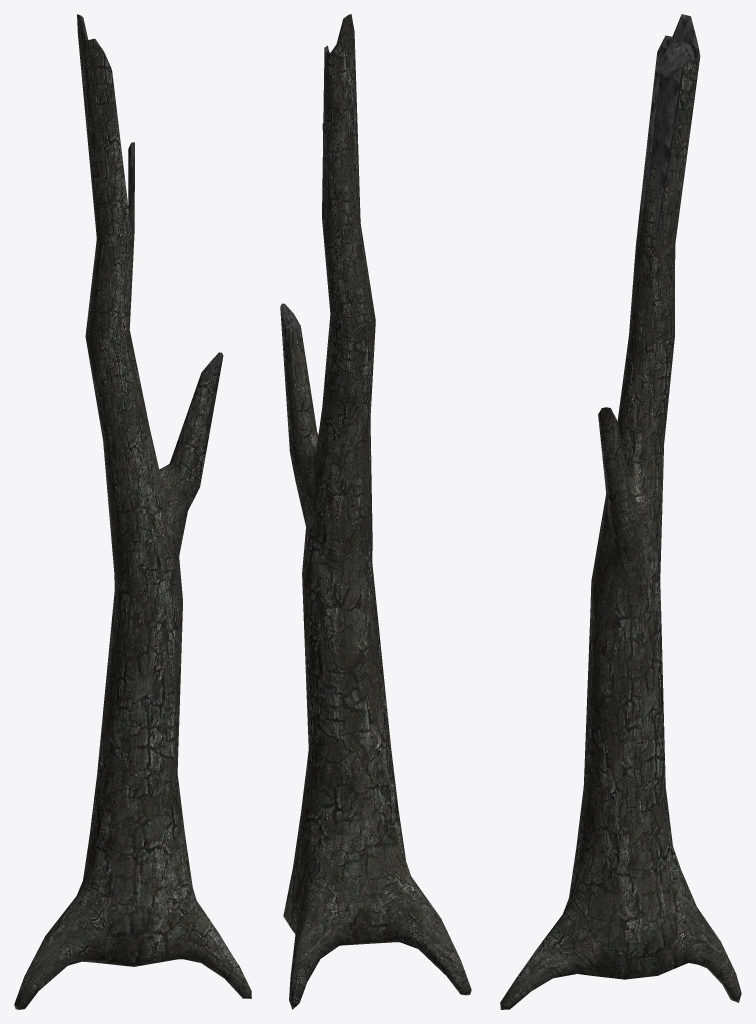
Rendered from DeadTree05.FBX.
3 renders of one model, left to right at view 1: azimuth 30°, elevation 25°; view 2: azimuth 150°, elevation 25°; view 3: azimuth 270°, elevation 25°, orthographic. The views are drawn at different scales.
Visible parts, largest first — view 1: TreeDead05:0, TreeDead05:1; view 2: TreeDead05:0, TreeDead05:1; view 3: TreeDead05:0, TreeDead05:1.
Part boxes in pixels (bbox=[...]): TreeDead05:0: bbox=[14, 14, 251, 1009]; TreeDead05:1: bbox=[78, 14, 223, 374]; TreeDead05:0: bbox=[280, 14, 471, 1009]; TreeDead05:1: bbox=[280, 14, 354, 328]; TreeDead05:0: bbox=[500, 56, 741, 1009]; TreeDead05:1: bbox=[638, 14, 700, 247].
Bounding box in the file's own units: 0.4888 × 2.27 × 0.5106.
